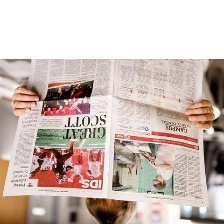news_paper: (1, 56, 212, 212)
